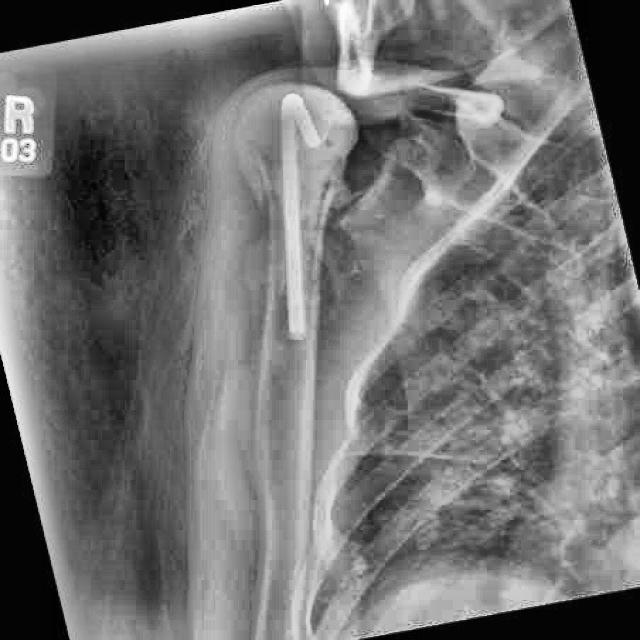shoulder fracture: (221, 147, 294, 237)
